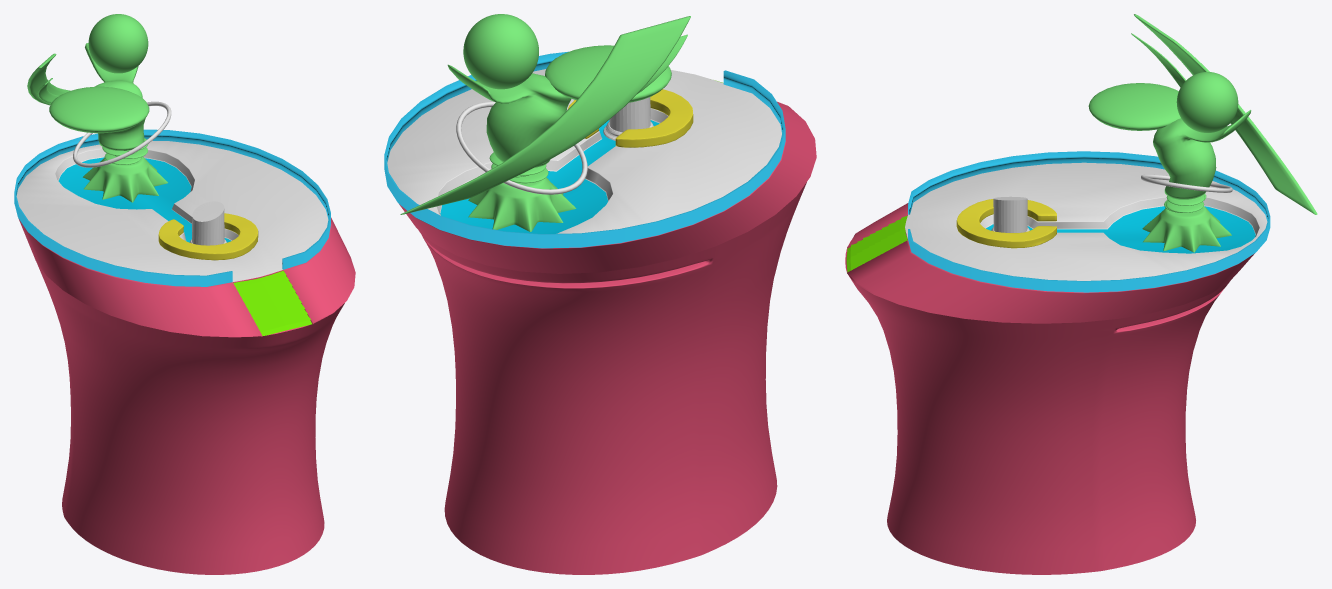
The model's file is part_1_llolw.fbx.
3 views of the same model, side by side, from view 1: azimuth 30°, elevation 25°; view 2: azimuth 150°, elevation 25°; view 3: azimuth 270°, elevation 25° (orthographic). The views are drawn at different scales.
Parts seen in each view (by area): view 1: platform_botton, platform_up, platform_up_glass, tree_sphere, stair, tree_sphere_small, platform_semicircle, tree_root, tree_body, ColumnOrderDoric, Torus.004, tree_line; view 2: platform_botton, platform_up, tree_line, platform_up_glass, tree_body, tree_sphere_small, tree_root, tree_sphere, platform_semicircle, Torus.004, ColumnOrderDoric; view 3: platform_botton, platform_up, platform_up_glass, tree_body, tree_sphere, tree_line, tree_sphere_small, platform_semicircle, tree_root, stair, ColumnOrderDoric, Torus.004.
Part boxes in pixels (<box>): platform_botton: <box>36,262,344,574</box>; platform_up: <box>16,140,355,337</box>; platform_up_glass: <box>14,129,330,286</box>; tree_sphere: <box>49,86,149,133</box>; stair: <box>233,270,311,335</box>; tree_sphere_small: <box>88,14,148,73</box>; platform_semicircle: <box>158,213,258,260</box>; tree_root: <box>83,156,167,202</box>; tree_body: <box>85,43,145,150</box>; ColumnOrderDoric: <box>190,201,226,245</box>; Torus.004: <box>73,101,171,167</box>; tree_line: <box>27,53,70,105</box>; platform_botton: <box>418,182,806,574</box>; platform_up: <box>387,69,816,273</box>; tree_line: <box>400,16,690,214</box>; platform_up_glass: <box>384,51,785,248</box>; tree_body: <box>447,64,571,167</box>; tree_sphere_small: <box>463,14,538,89</box>; tree_root: <box>468,177,576,231</box>; tree_sphere: <box>545,45,671,102</box>; platform_semicircle: <box>568,89,693,147</box>; Torus.004: <box>456,101,587,194</box>; ColumnOrderDoric: <box>603,97,653,140</box>; platform_botton: <box>845,240,1229,574</box>; platform_up: <box>846,162,1267,323</box>; platform_up_glass: <box>908,151,1270,292</box>; tree_body: <box>1153,110,1251,199</box>; tree_sphere: <box>1088,83,1180,130</box>; tree_line: <box>1134,14,1317,214</box>; tree_sphere_small: <box>1176,72,1238,132</box>; platform_semicircle: <box>956,199,1056,248</box>; tree_root: <box>1142,206,1231,252</box>; stair: <box>846,215,907,272</box>; ColumnOrderDoric: <box>991,196,1029,232</box>; Torus.004: <box>1141,174,1232,192</box>.
Size of the model in its own units: 10777 by 17438 by 16499.
